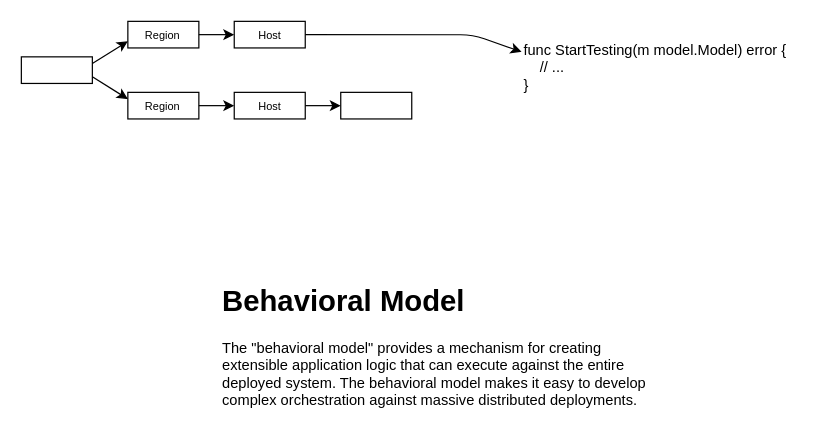
The diagram is 836 pixels wide and 433 high, and some of its shapes have lost their labels. Here are the shapes that lost their labels. From the top down, the centre of each, then its label:
pixel 56 69: Model
pixel 376 105: Component
